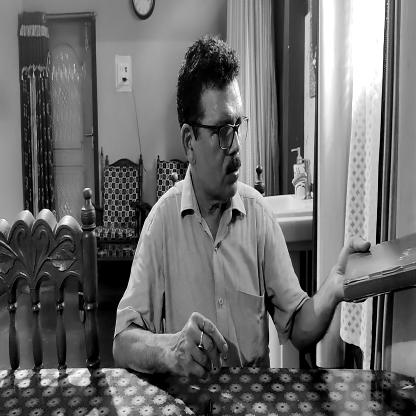Distracted: (187, 72, 251, 203)
